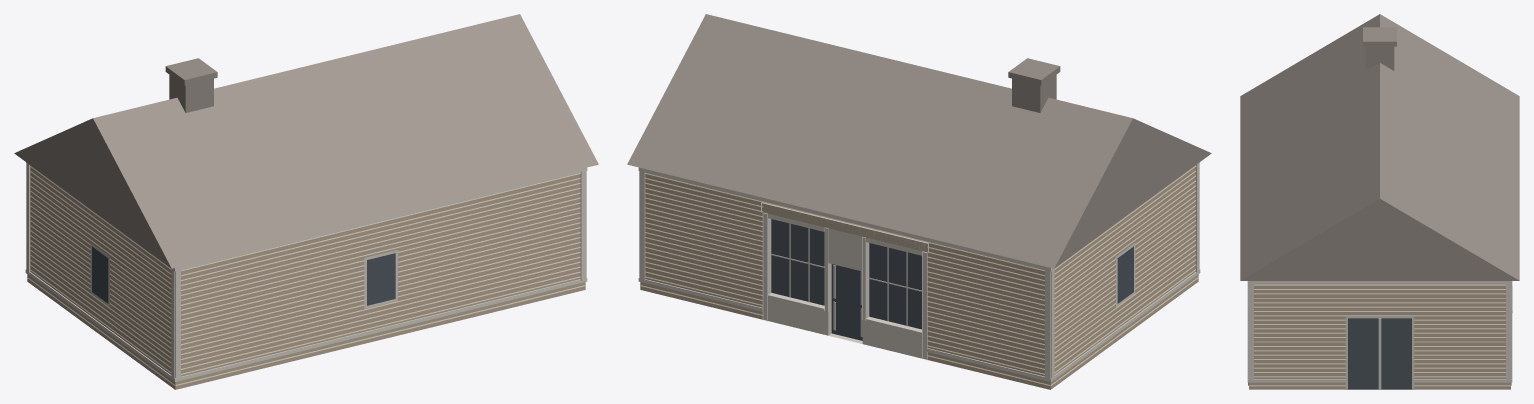
The model's file is h_jones_store__frame_1833.glb.
3 views of the same model, side by side, from view 1: azimuth 30°, elevation 25°; view 2: azimuth 150°, elevation 25°; view 3: azimuth 270°, elevation 25° (orthographic). The views are drawn at different scales.
Visible parts, largest first — view 1: h_jones_store__frame_1833; view 2: h_jones_store__frame_1833; view 3: h_jones_store__frame_1833.
Part boxes in pixels (bbox=[...]): h_jones_store__frame_1833: bbox=[14, 14, 598, 389]; h_jones_store__frame_1833: bbox=[627, 14, 1211, 389]; h_jones_store__frame_1833: bbox=[1240, 14, 1519, 389].
Bounding box in the file's own units: 12.69 × 6.95 × 8.12.
